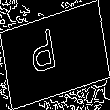P_S: (39, 27, 71, 83)
